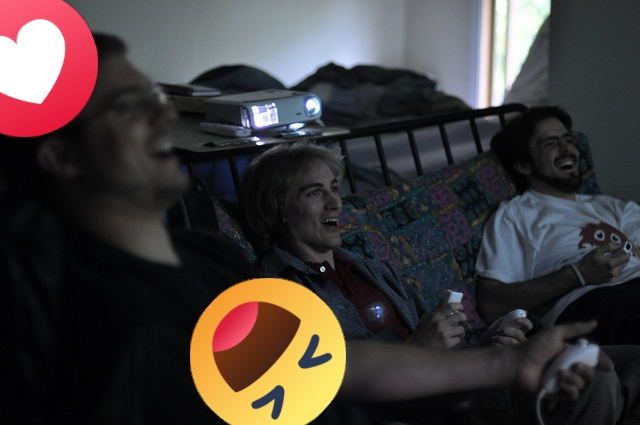haha: (190, 278, 346, 425)
love: (0, 0, 98, 137)
